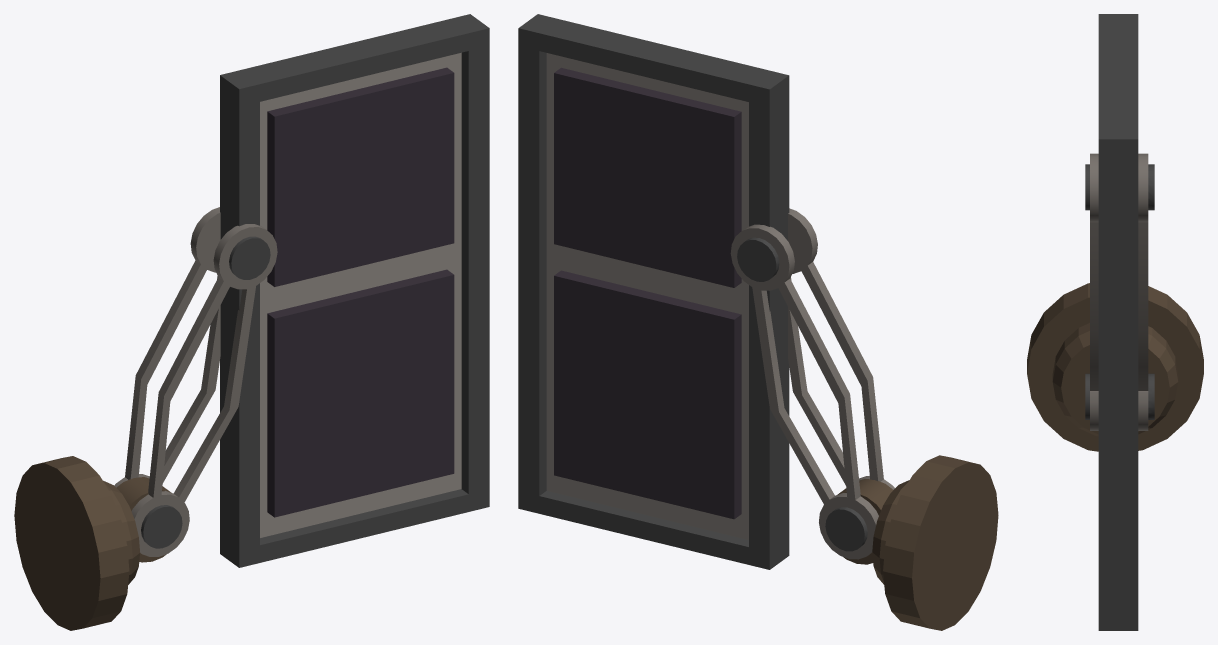
File: 48_sign3.fbx
The picture shows the model from 3 angles, left to right: view 1: azimuth 30°, elevation 25°; view 2: azimuth 150°, elevation 25°; view 3: azimuth 270°, elevation 25°; orthographic projection. The views are drawn at different scales.
Visible parts, largest first — view 1: pCube93, pCube94, pCube95, pCylinder288, pCylinder289, pCylinder286, pCylinder287; view 2: pCube93, pCube94, pCube95, pCylinder288, pCylinder286, pCylinder289, pCylinder287; view 3: pCube93, pCylinder288, pCylinder286, pCylinder289.
Part boxes in pixels (x1,y1,x2,y2): pCube93: (220,14,489,567); pCube94: (267,269,454,517); pCube95: (267,67,454,286); pCylinder288: (14,456,140,630); pCylinder289: (131,224,277,556); pCylinder286: (114,207,220,487); pCylinder287: (116,477,171,562); pCube93: (518,14,789,569); pCube94: (554,270,741,519); pCube95: (554,67,741,287); pCylinder288: (872,455,998,630); pCylinder286: (730,224,878,559); pCylinder289: (788,208,894,489); pCylinder287: (837,479,893,564); pCube93: (1098,14,1138,630); pCylinder288: (1027,283,1203,451); pCylinder286: (1138,153,1154,430); pCylinder289: (1085,153,1098,430).
Bounding box in the file's own units: 1.2 × 1.35 × 0.4229.
